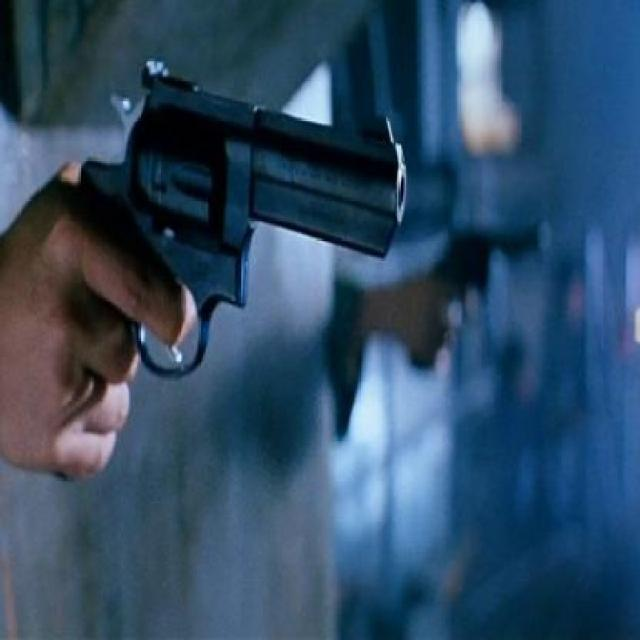gun: (91, 4, 422, 363)
